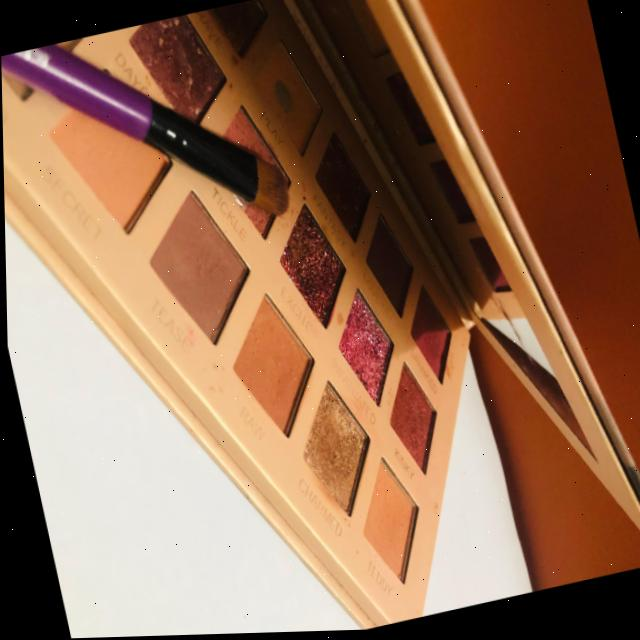blush: (0, 0, 313, 309)
